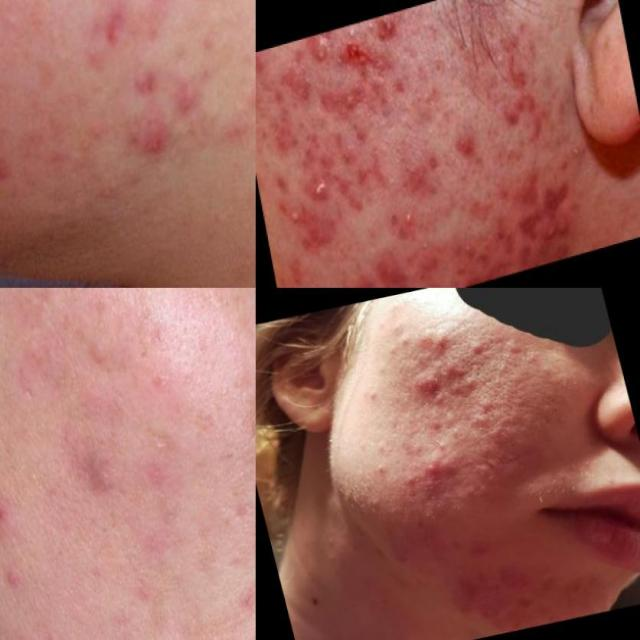acne_scars: (496, 50, 534, 100)
comedone: (126, 418, 181, 473), (11, 454, 57, 506), (496, 128, 524, 174), (313, 548, 345, 575), (40, 621, 77, 640), (467, 411, 495, 432), (478, 394, 494, 410)
cystic: (70, 421, 126, 551), (411, 366, 443, 402)
folliculitis: (563, 139, 588, 173), (282, 204, 306, 239)
milium: (414, 234, 438, 265)
papule: (86, 0, 136, 60), (168, 71, 210, 123), (124, 50, 164, 104), (137, 118, 174, 168), (436, 370, 487, 403), (413, 320, 455, 360), (537, 208, 574, 252), (419, 447, 456, 481), (0, 140, 23, 192), (435, 352, 471, 384), (240, 507, 256, 576), (493, 563, 524, 596), (469, 453, 500, 483), (415, 527, 441, 556), (474, 600, 500, 626), (504, 335, 532, 357), (462, 337, 488, 360), (242, 76, 256, 114)
pustule: (392, 202, 423, 242)
sebo-crystan-conglo: (340, 33, 376, 83), (304, 34, 338, 80), (372, 14, 407, 49), (306, 167, 336, 206)
